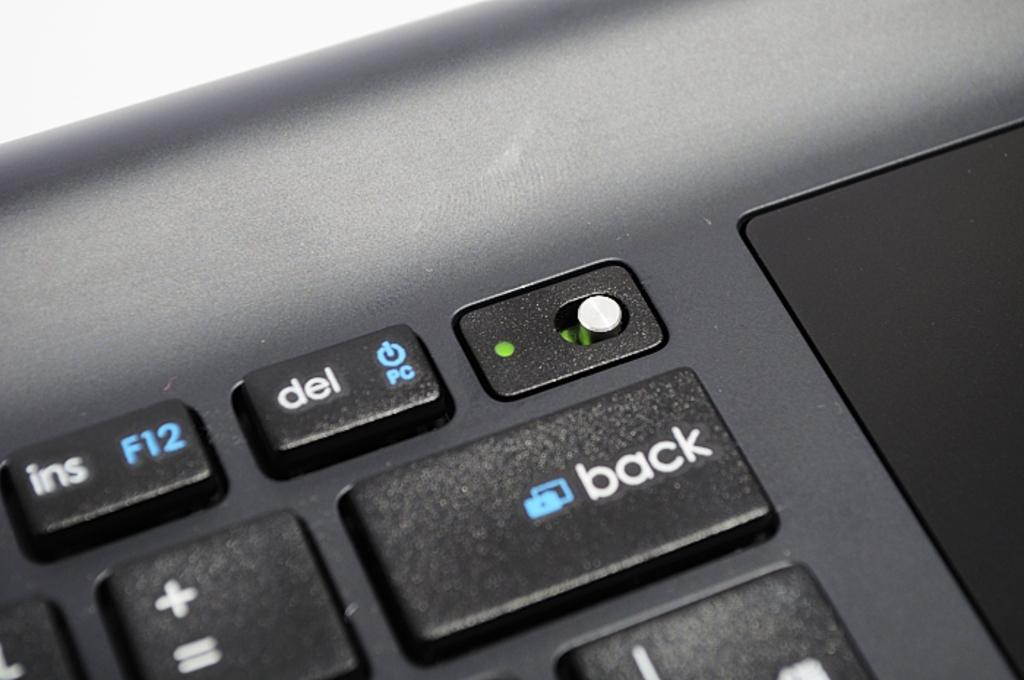Computer-keyboard: (0, 114, 1023, 679)
